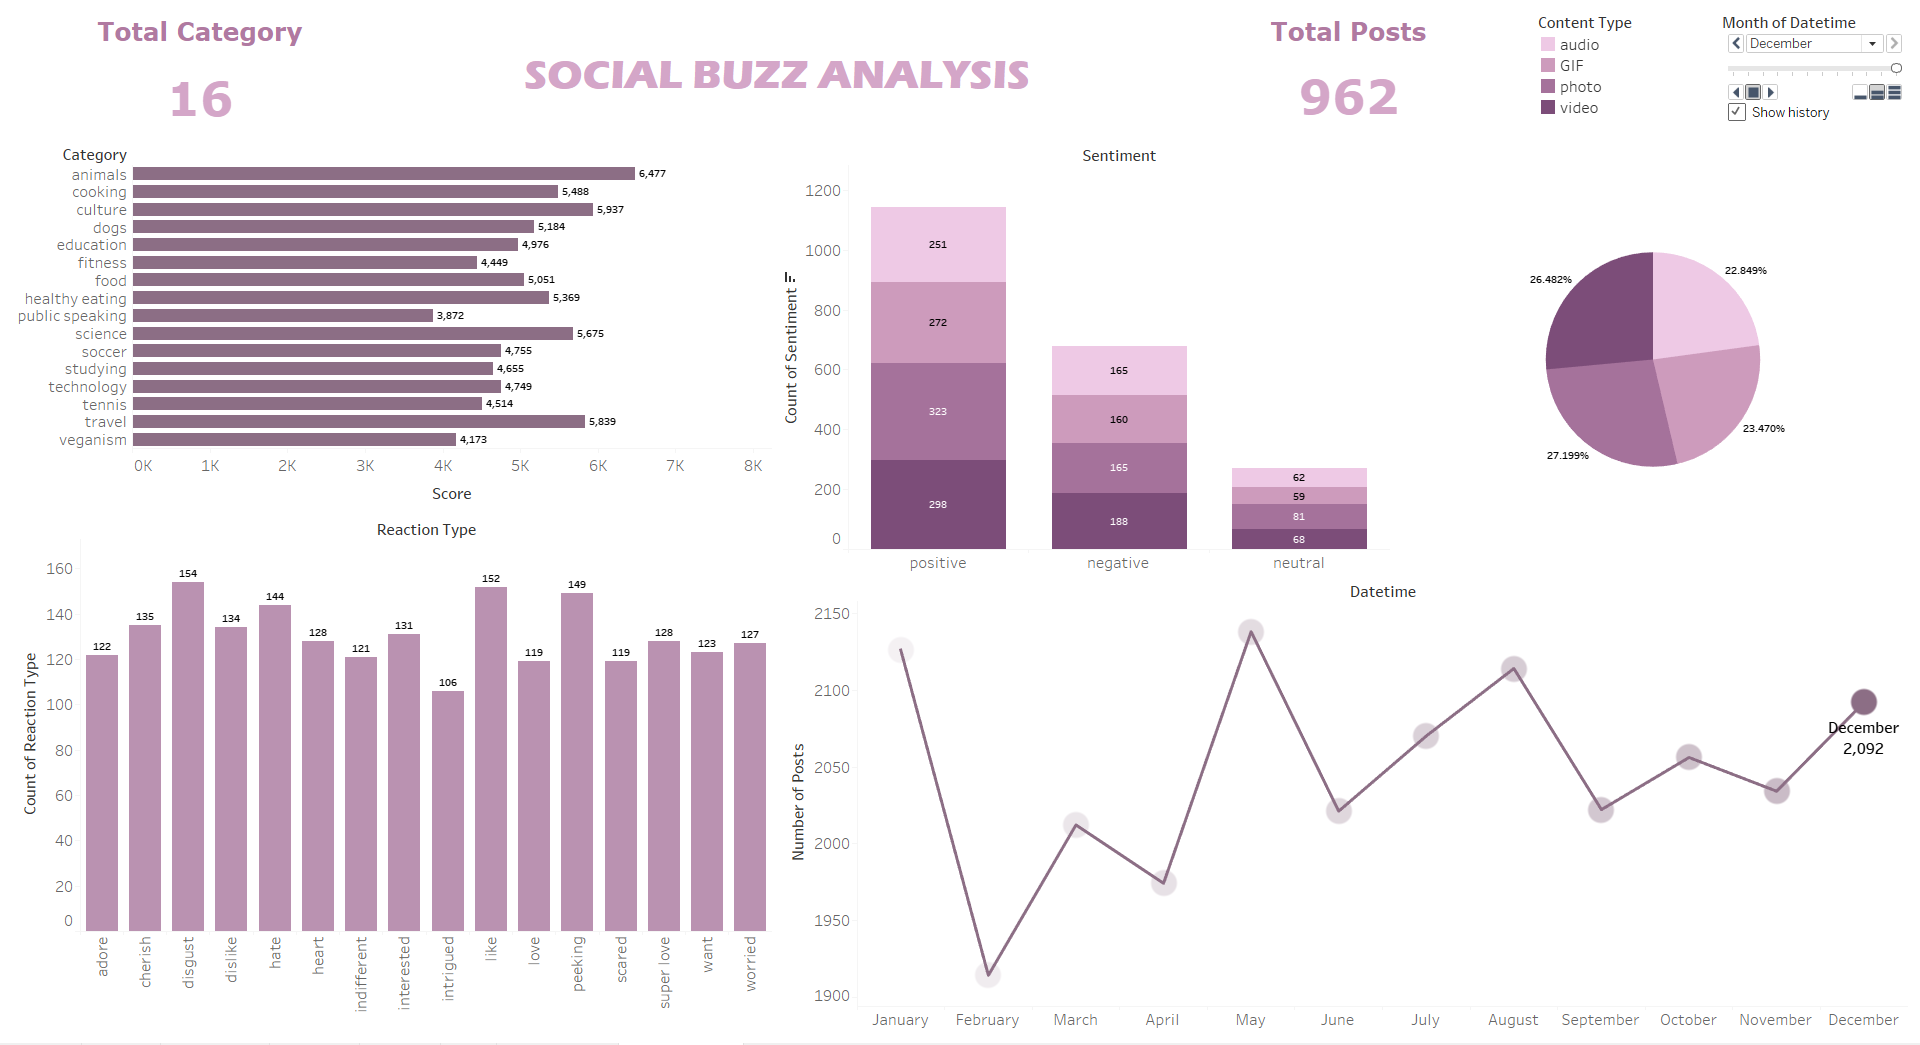

This screenshot's page, from the dashboard's own definition file:
{"tool":"tableau","page":{"name":"Dashboard 1","canvas":[1000,1000],"units":"permille","ordinal":0},"visuals":[{"type":"worksheet","title":"Total Category","mark":"Automatic","box":[4.8,8.8,199.7,127.3]},{"type":"text","box":[204.5,8.8,400.7,127.3]},{"type":"worksheet","title":"Posts","mark":"Automatic","box":[605.2,8.8,193.8,127.3]},{"type":"legend","title":"Content type","param":"[federated.1yul49n1bu4n0k18cpxki14o3hu1].[none:Content Type:nk]","box":[799,8.8,95.6,127.3]},{"type":"currpage","title":"Content type","box":[894.6,8.8,100.6,127.3]},{"type":"worksheet","title":"Category","mark":"Automatic","rows":["Category"],"cols":["Score"],"box":[4.8,136.1,399.4,410.5]},{"type":"worksheet","title":"Sentiment","mark":"Automatic","rows":["Sentiment"],"cols":["Sentiment"],"box":[404.2,136.1,278.8,417.7]},{"type":"worksheet","title":"Content type","mark":"Pie","box":[683,136.1,312.2,417.7]},{"type":"worksheet","title":"Reaction","mark":"Automatic","rows":["Reaction Type"],"cols":["Reaction Type"],"box":[4.8,546.6,399.4,444.6]},{"type":"worksheet","title":"Datetime","mark":"Circle","rows":["Content ID"],"cols":["Datetime"],"box":[404.2,553.8,591,437.4]}]}

Visuals, with their boxes on the dashboard's canvas, which has no fixed pixel size, in thousandths of its width and height (x1, y1, x2, y2). These are canvas units, not pixel positions in the 1920x1045 screenshot, which may show the page scaled, cropped or inside an application window:
"Total Category" worksheet: x1=5, y1=9, x2=204, y2=136
text: x1=204, y1=9, x2=605, y2=136
"Posts" worksheet: x1=605, y1=9, x2=799, y2=136
"Content type" legend: x1=799, y1=9, x2=895, y2=136
"Content type" currpage: x1=895, y1=9, x2=995, y2=136
"Category" worksheet: x1=5, y1=136, x2=404, y2=547
"Sentiment" worksheet: x1=404, y1=136, x2=683, y2=554
"Content type" worksheet (Pie marks): x1=683, y1=136, x2=995, y2=554
"Reaction" worksheet: x1=5, y1=547, x2=404, y2=991
"Datetime" worksheet (Circle marks): x1=404, y1=554, x2=995, y2=991
